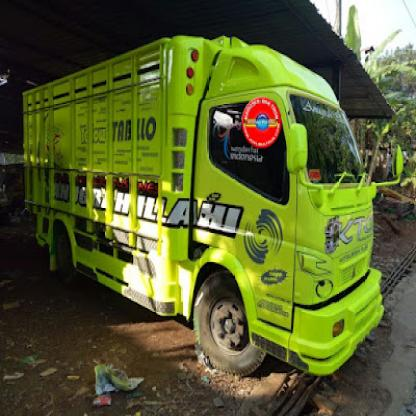truck: (22, 34, 401, 374)
